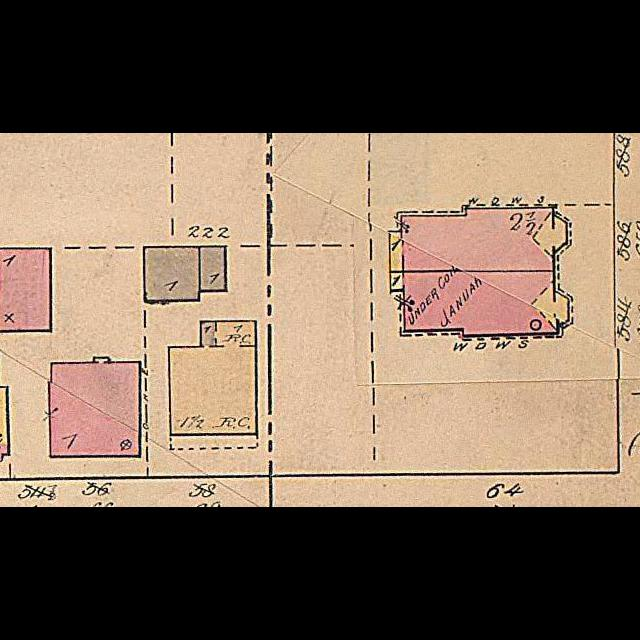building-footprints: (390, 271, 569, 336), (390, 208, 567, 271), (169, 321, 257, 434), (49, 358, 140, 456), (0, 249, 51, 331), (144, 247, 199, 301), (200, 247, 226, 291)
